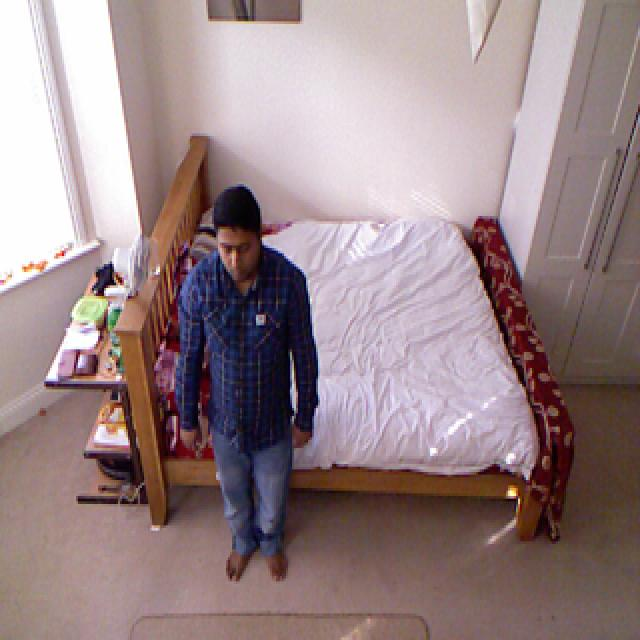standing: (175, 187, 319, 582)
